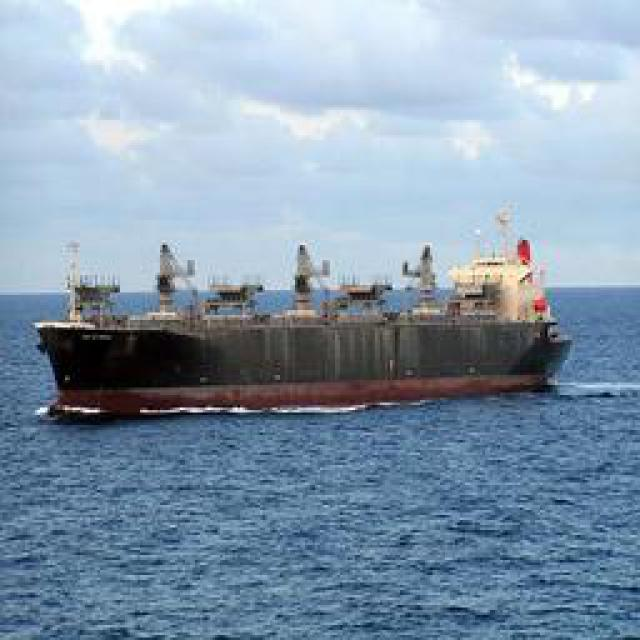Ship: (30, 221, 580, 416)
